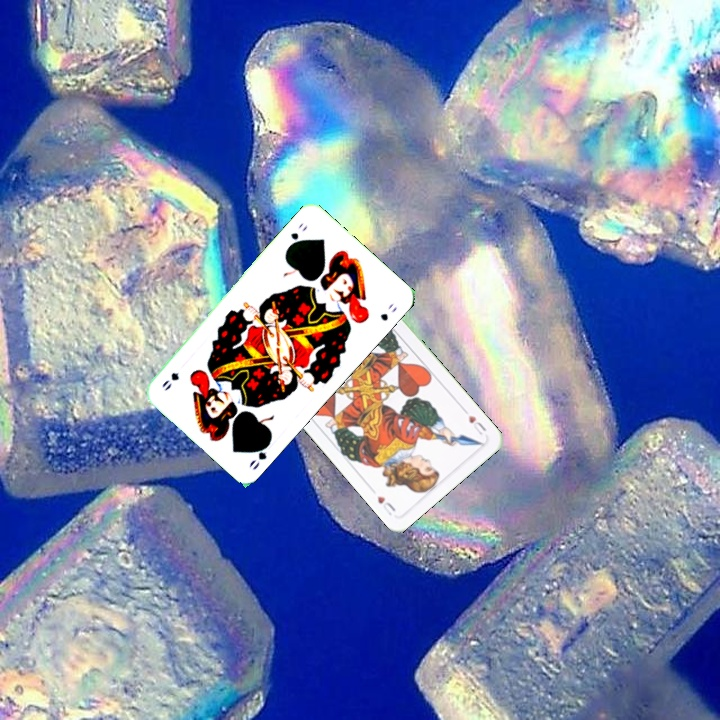GO: (245, 436, 274, 473), (284, 219, 310, 251)
HU: (464, 411, 489, 438)
